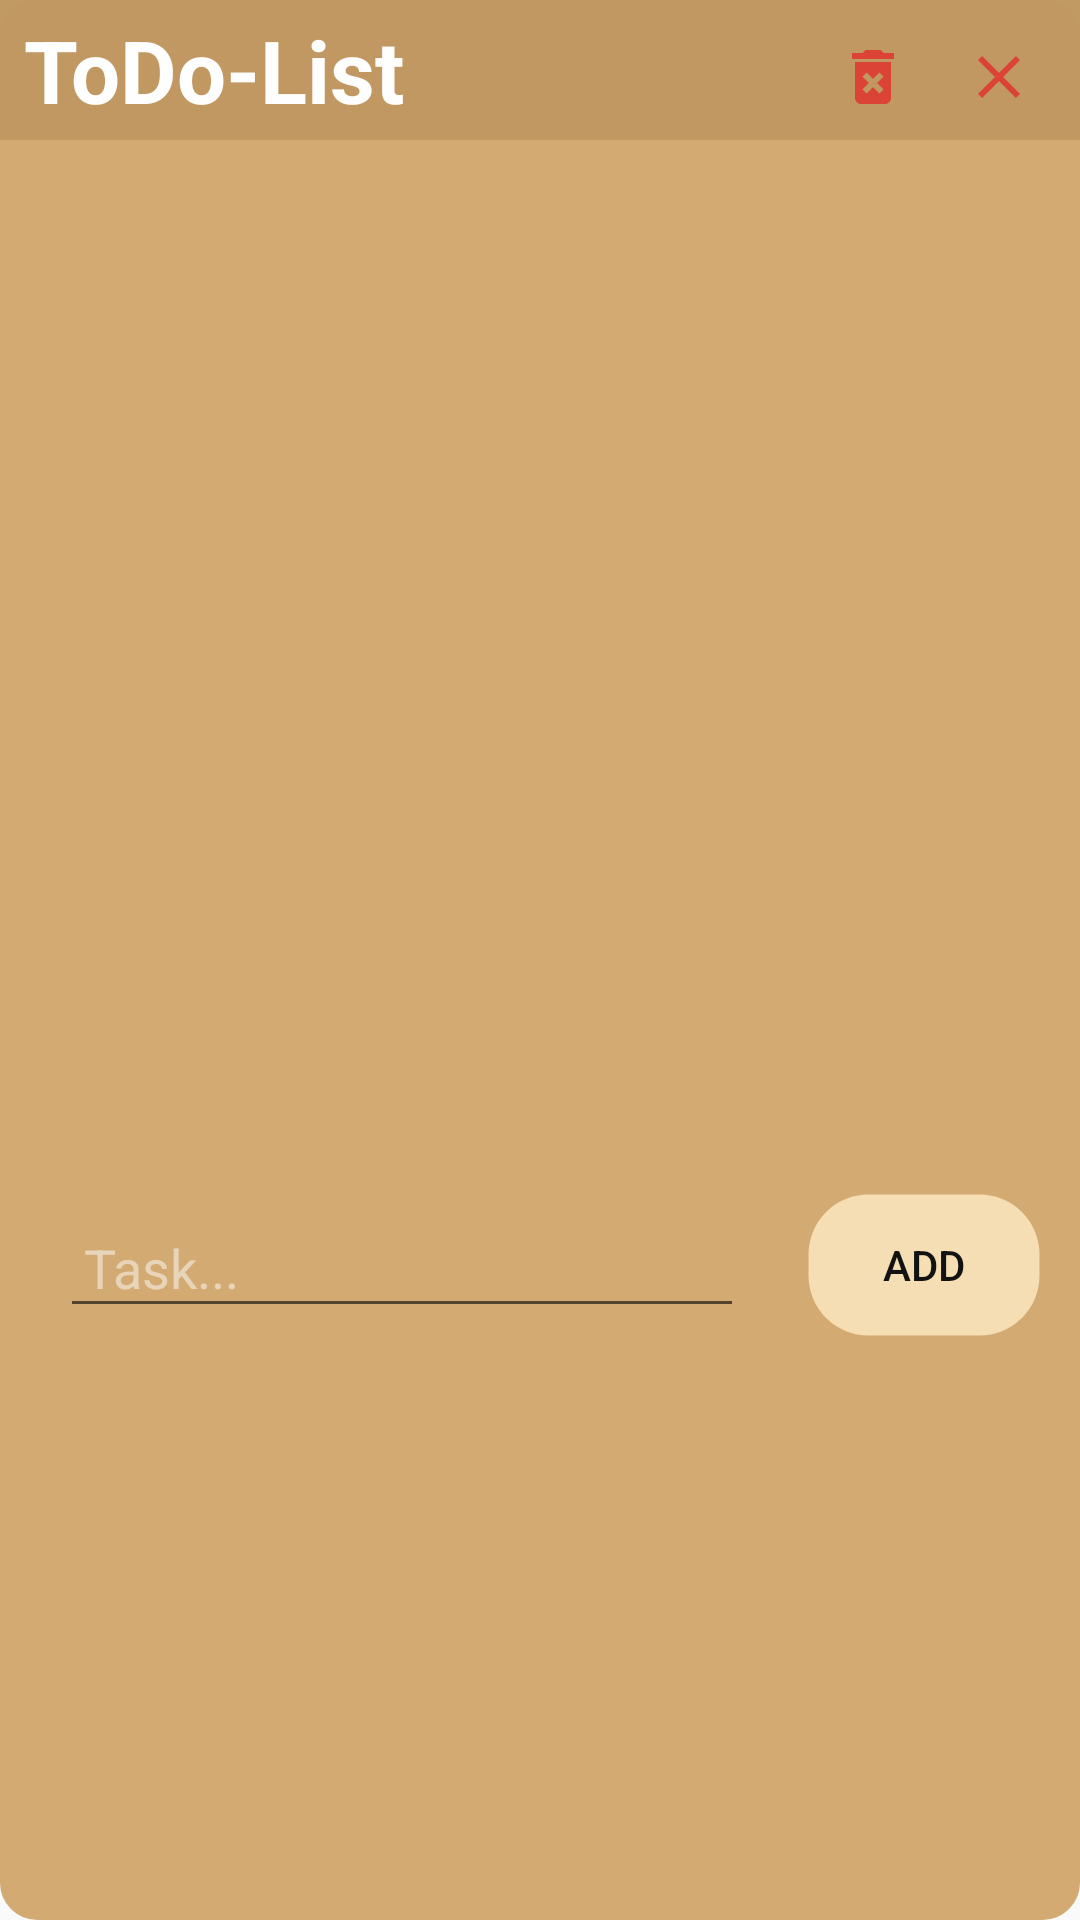

Icons on this 1080px×1920px Android screen, each with its box as detection(x1, y1, x2, y2):
close: detection(978, 56, 1020, 98)
delete forever: detection(852, 50, 894, 104)
